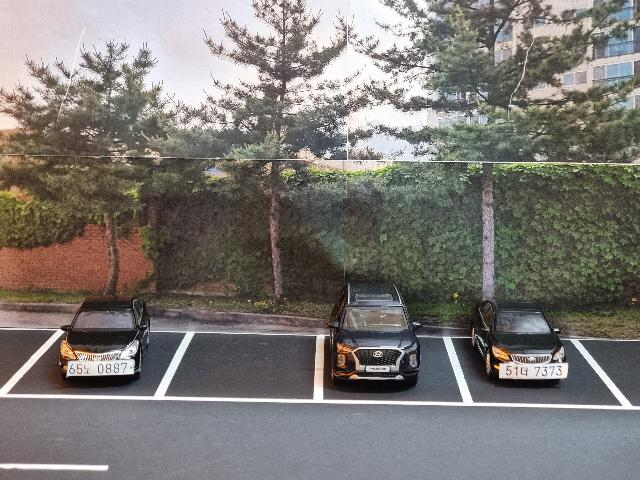empty: (168, 322, 324, 409), (580, 332, 640, 406)
occupied: (329, 279, 425, 397), (58, 288, 152, 382)
